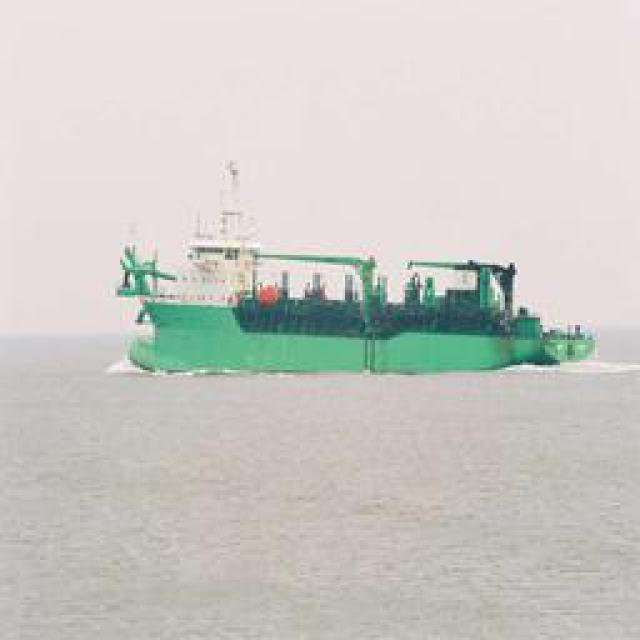Ship: (125, 255, 593, 378)
